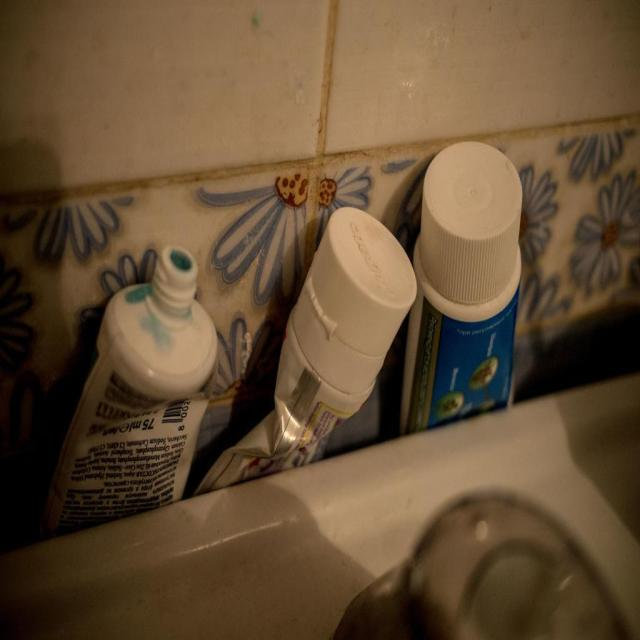Toothpaste: (38, 138, 526, 542)
